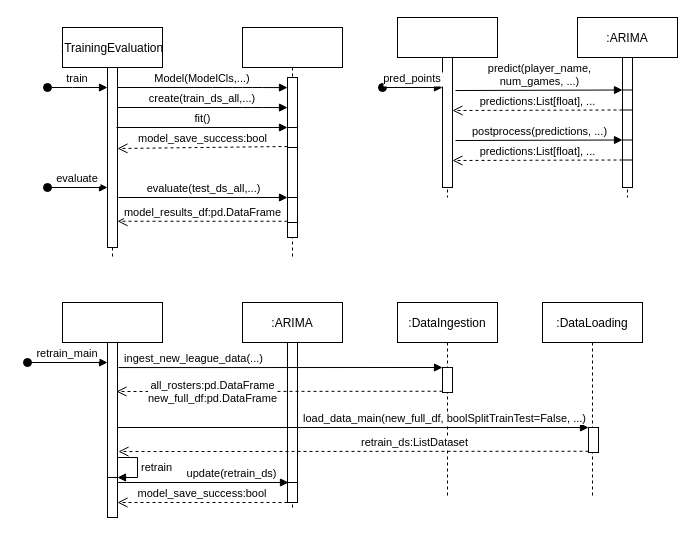
Some shapes in this 695 by 535 pixel diagram are drawn without their labels. The shapes that lost their labels are listed below. From the top down, each one's box as (x1, y1, x2, y2) in pixels, then its label:
(396, 16, 498, 198): PlayerForecaster
(242, 26, 342, 258): :Model
(62, 302, 162, 518): :PlayerForecaster
